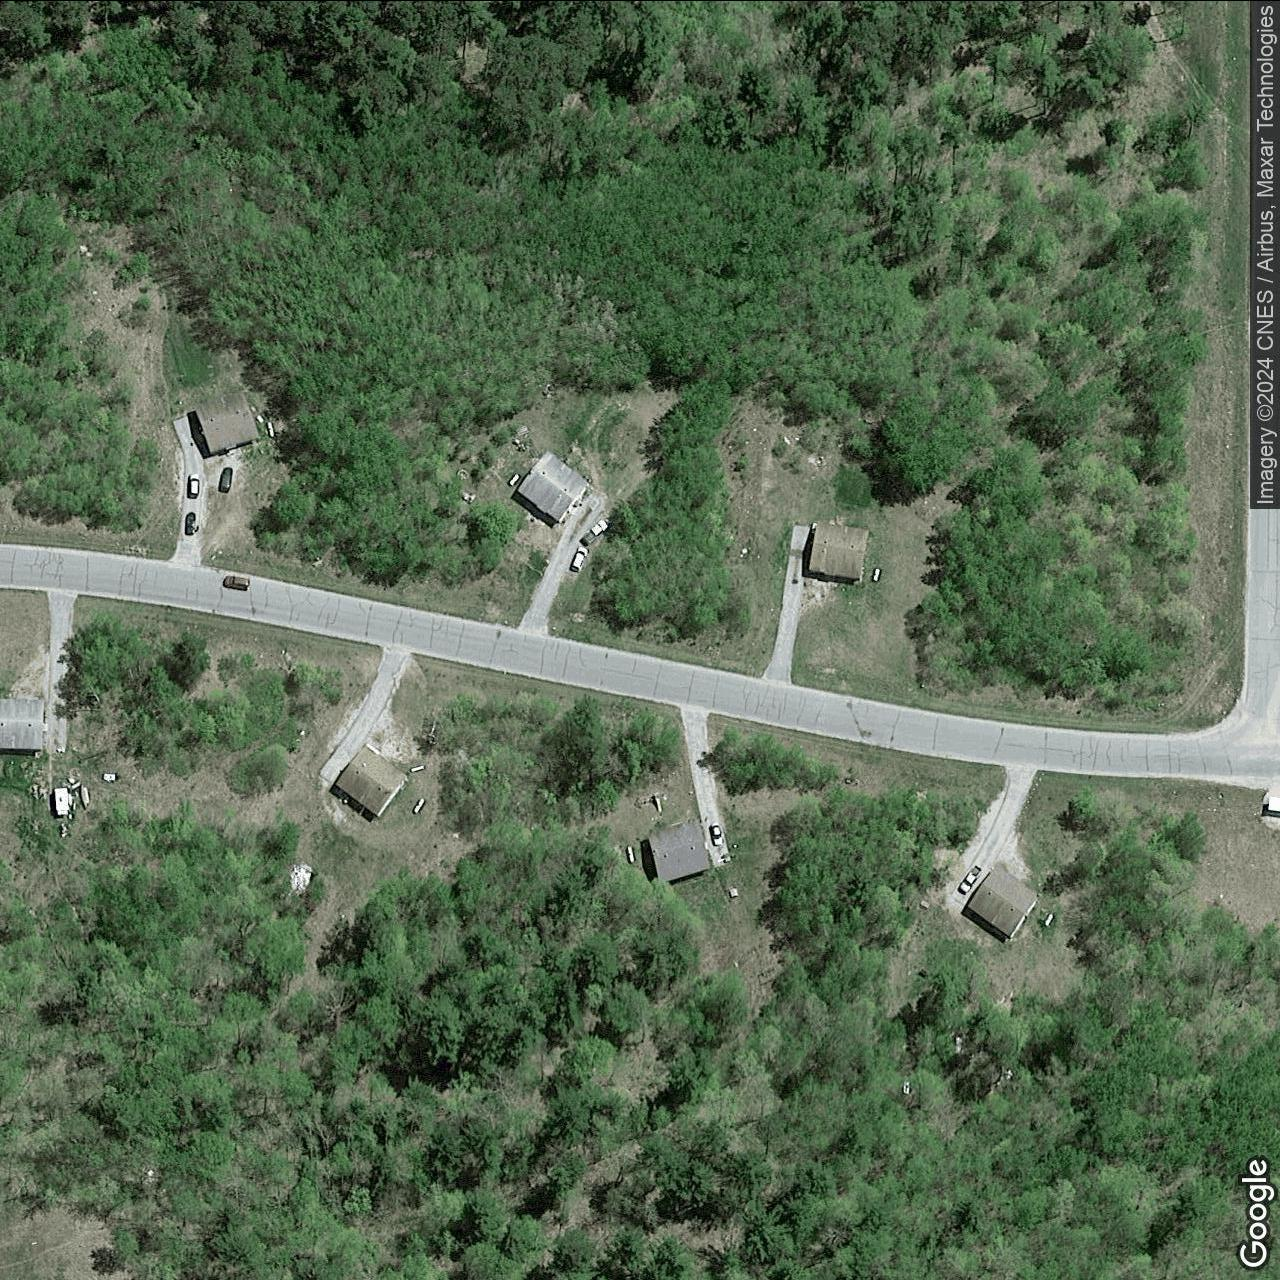House: (967, 864, 1042, 942), (334, 742, 410, 816), (517, 449, 590, 526), (195, 389, 260, 454), (647, 819, 712, 884), (809, 519, 870, 581), (0, 697, 46, 750)
Propane: (410, 796, 427, 813), (506, 470, 522, 489), (625, 844, 636, 864), (1042, 911, 1056, 927), (266, 420, 275, 438), (409, 763, 427, 772), (871, 567, 881, 583)
